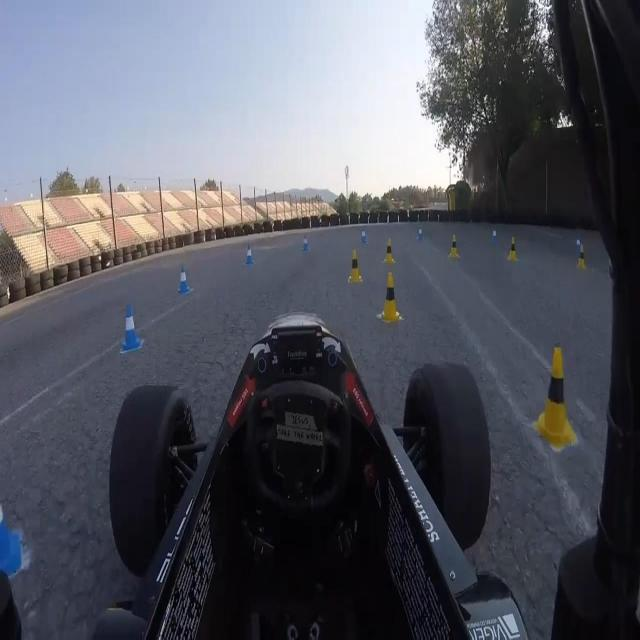blue_cone: (0, 476, 29, 577), (119, 304, 141, 355), (177, 258, 191, 298), (245, 240, 255, 268), (302, 230, 310, 255), (489, 227, 497, 250), (574, 237, 582, 260), (359, 226, 367, 247), (415, 225, 422, 246)
yellow_cone: (532, 348, 578, 456), (379, 273, 402, 326), (347, 251, 363, 285), (382, 234, 397, 268), (505, 233, 519, 263), (448, 233, 459, 264), (578, 247, 586, 274)
